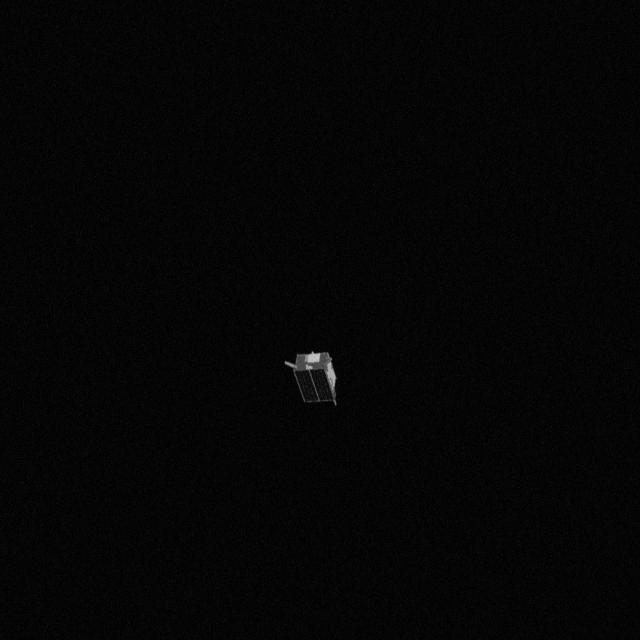satellite: (284, 350, 346, 404)
